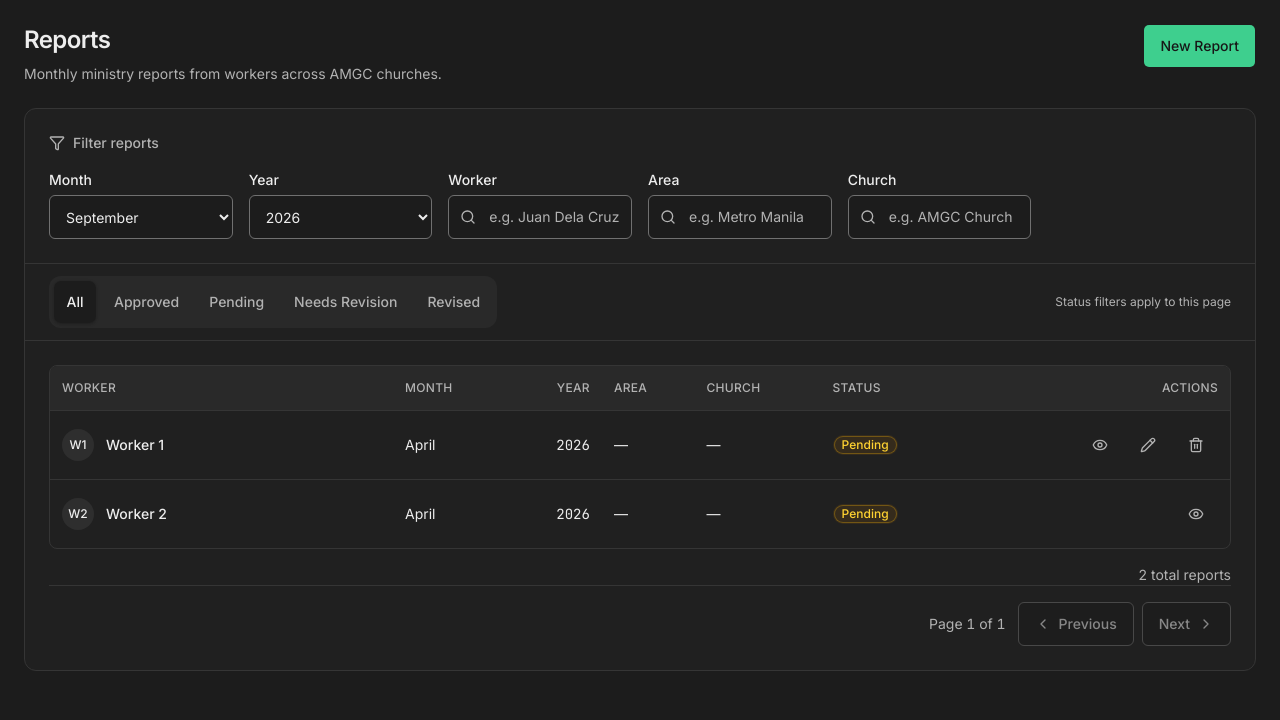
Scenario: reports list: delete › asks first, then deletes and reloads
Expected: the text "Worker 1" is shown, [106, 434, 164, 454]
Click the button named "Delete " at (1196, 444), box [1174, 422, 1218, 466]
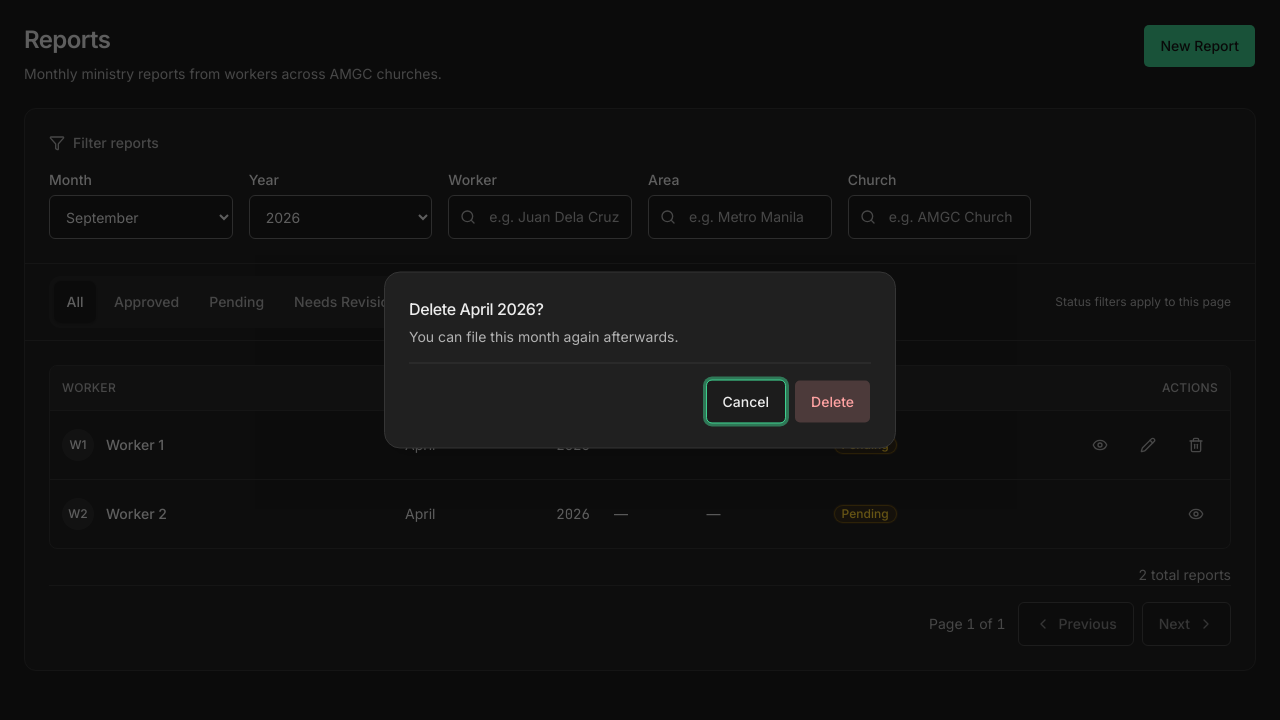
Expected: the heading "Delete April 2026?" is shown, [409, 296, 544, 320]
Click the button "Delete" at (833, 402), box [794, 380, 871, 424]
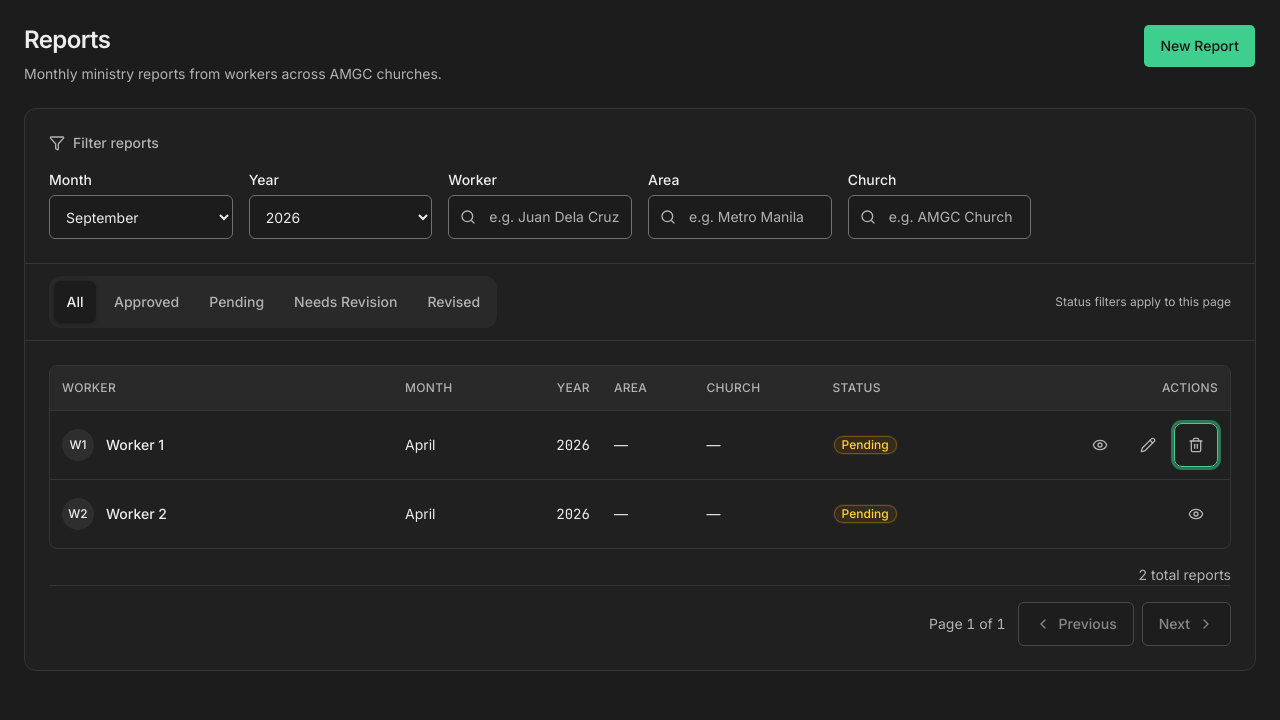
Expected: the dialog is gone
